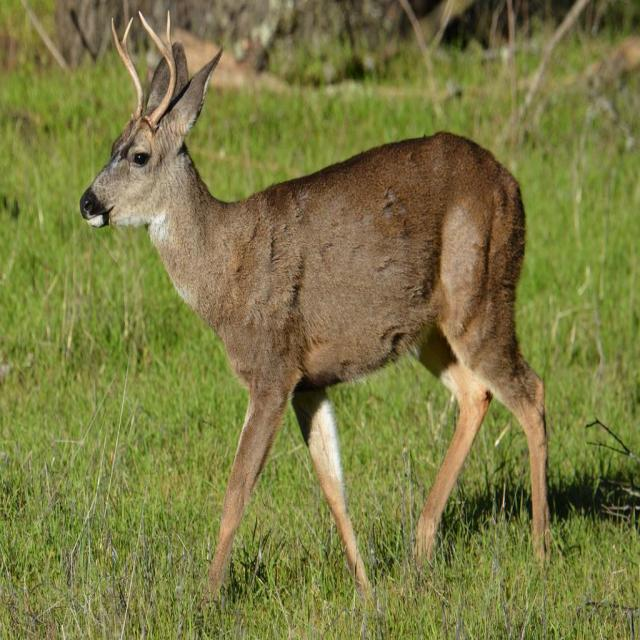Deer: (79, 9, 551, 622)
